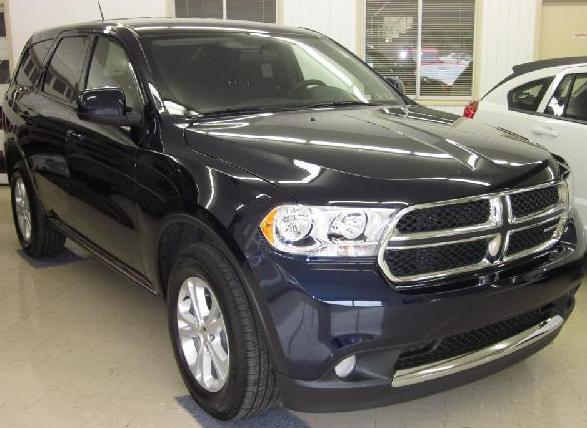front_view: (252, 157, 580, 379)
headlight: (254, 187, 410, 276)
side_glass: (40, 32, 163, 135)
